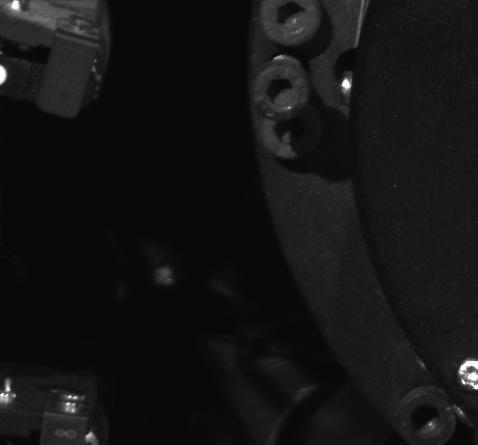fiber: (1, 60, 19, 94)
